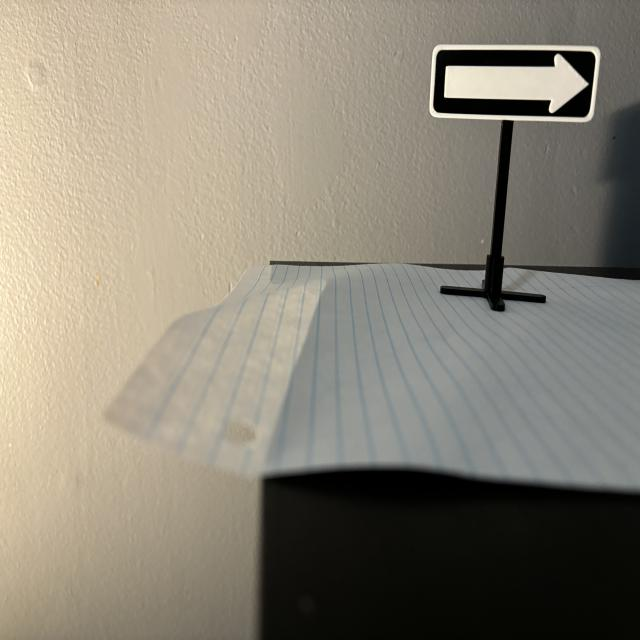sign_oneway_right: (431, 45, 602, 123)
